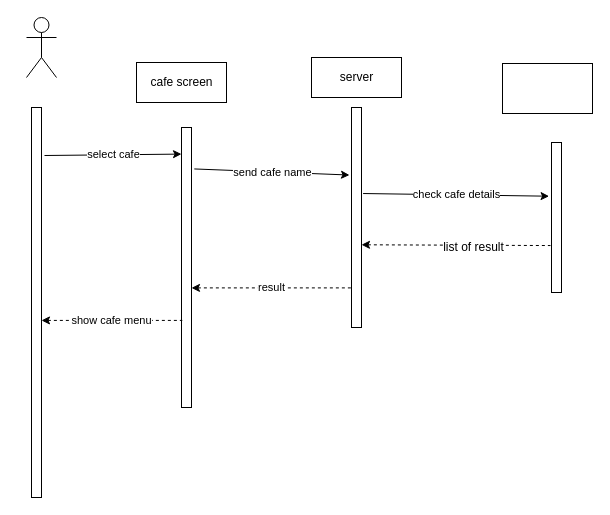
Some shapes in this 610 by 515 pixel diagram are drawn without their labels. The shapes that lost their labels are listed below. From the top down, each one's centre as x and y in pixels, then its label:
At (41,47): "customer".
At (547,88): "DB: cafe menu".
